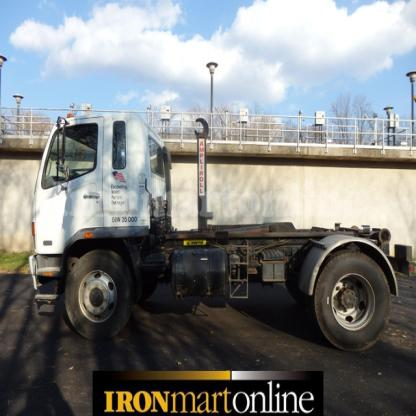truck: (27, 112, 400, 355)
